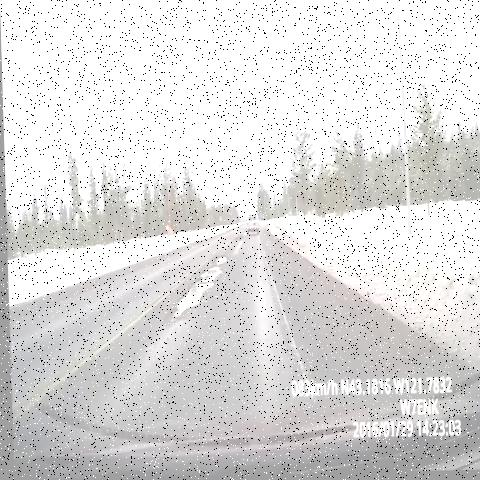pothole: (162, 254, 230, 332), (227, 230, 245, 251)
